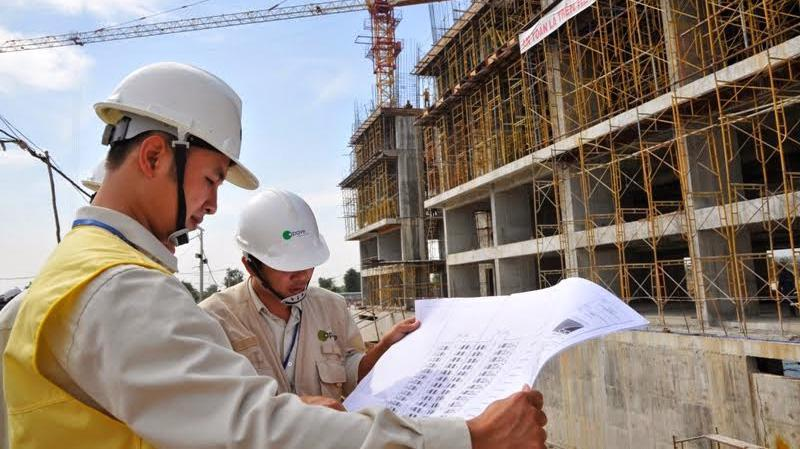Helmet: (92, 61, 259, 191), (235, 188, 330, 272)
Person: (0, 61, 548, 448), (195, 187, 421, 411)
Safety Vest: (1, 216, 178, 447)
bare-arms: (462, 385, 545, 449)
no-vest: (196, 275, 365, 406)
